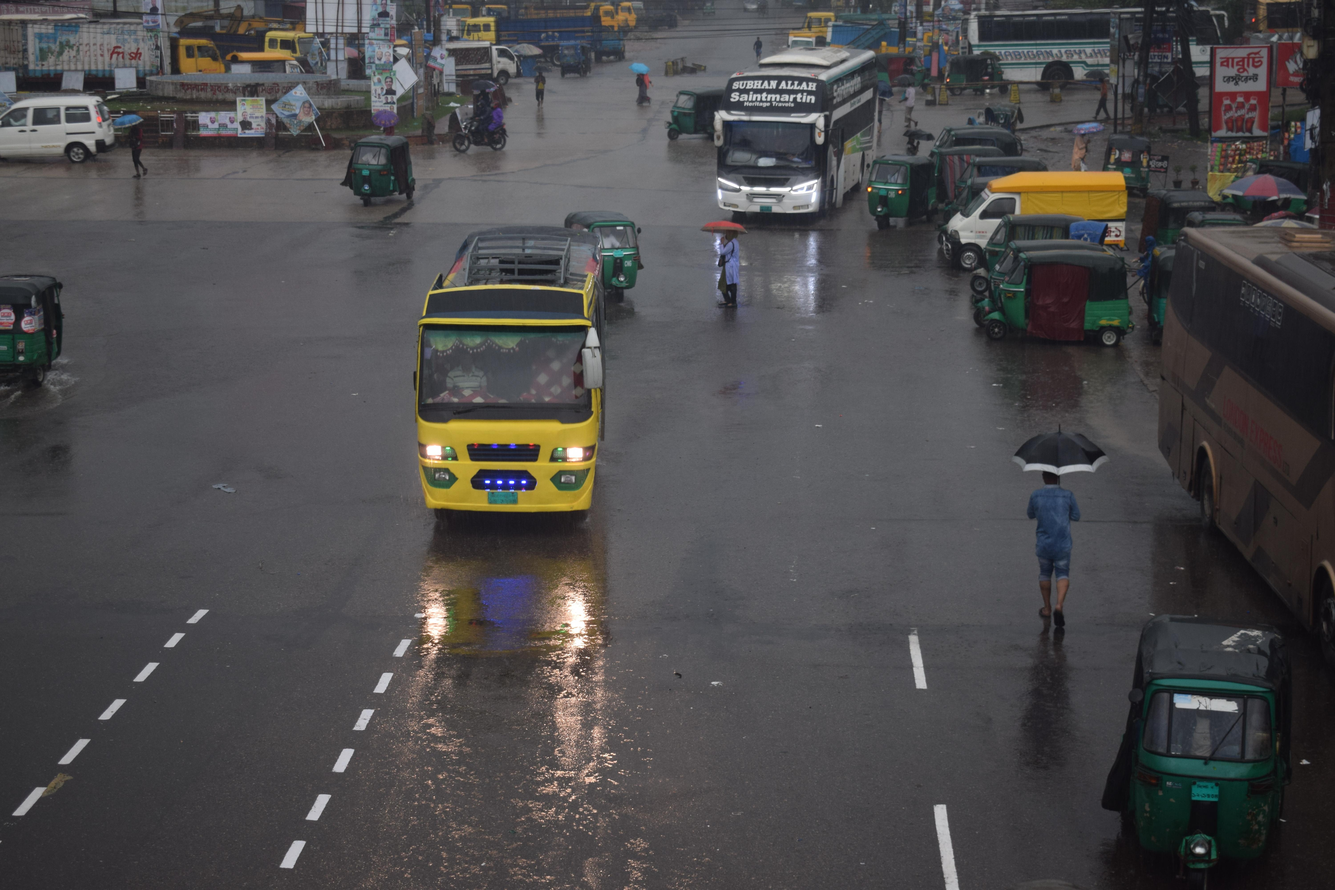Bus: (378, 202, 656, 569), (1131, 188, 1335, 645), (683, 25, 893, 255), (934, 6, 1275, 100)
Car: (932, 150, 1139, 235), (0, 82, 127, 193), (431, 33, 523, 97)
